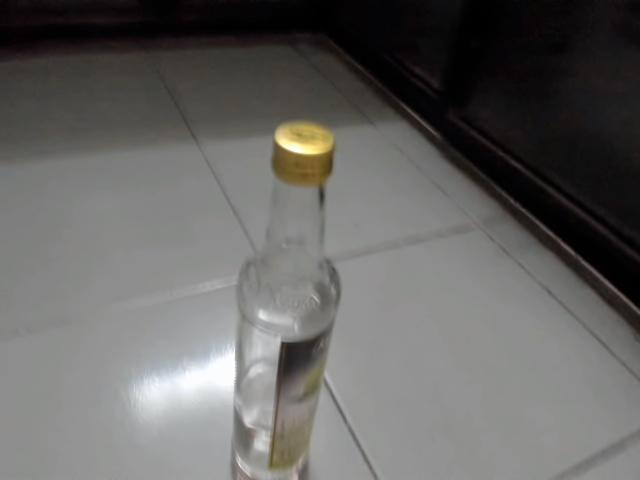botol_kaca: (224, 113, 348, 480)
